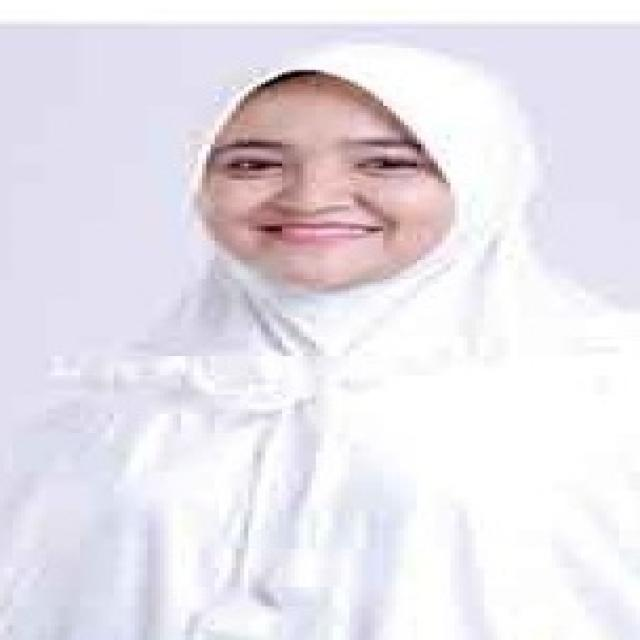head: (173, 43, 525, 296)
